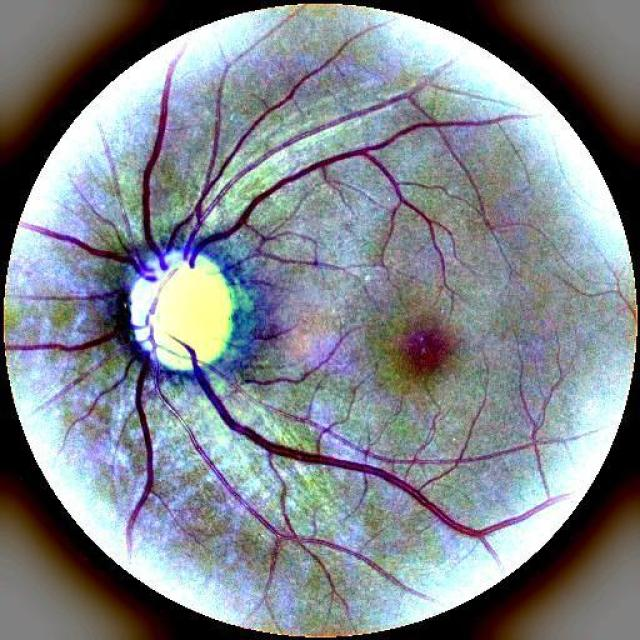Macula: (385, 286, 478, 385)
Nerves: (127, 97, 427, 554)
Optic Disk: (92, 236, 264, 393)
